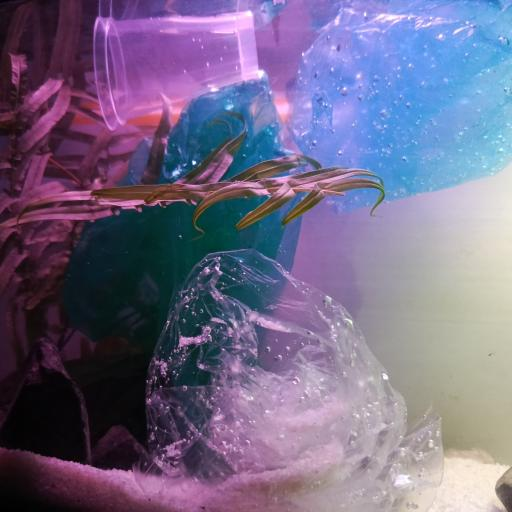plastic_bag: (58, 70, 307, 399), (148, 248, 444, 512), (283, 0, 512, 216)
plastic_cup: (92, 9, 264, 129)
plastic_straw: (72, 96, 286, 131)
